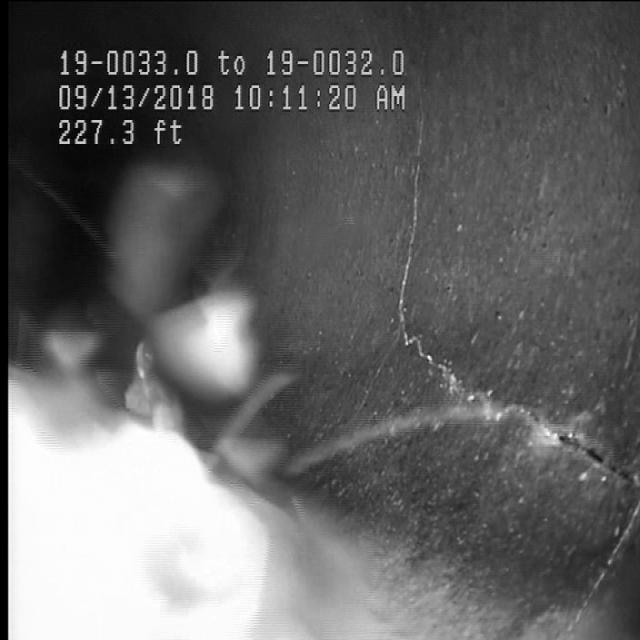Crack: (389, 308, 625, 492), (396, 138, 436, 288)
